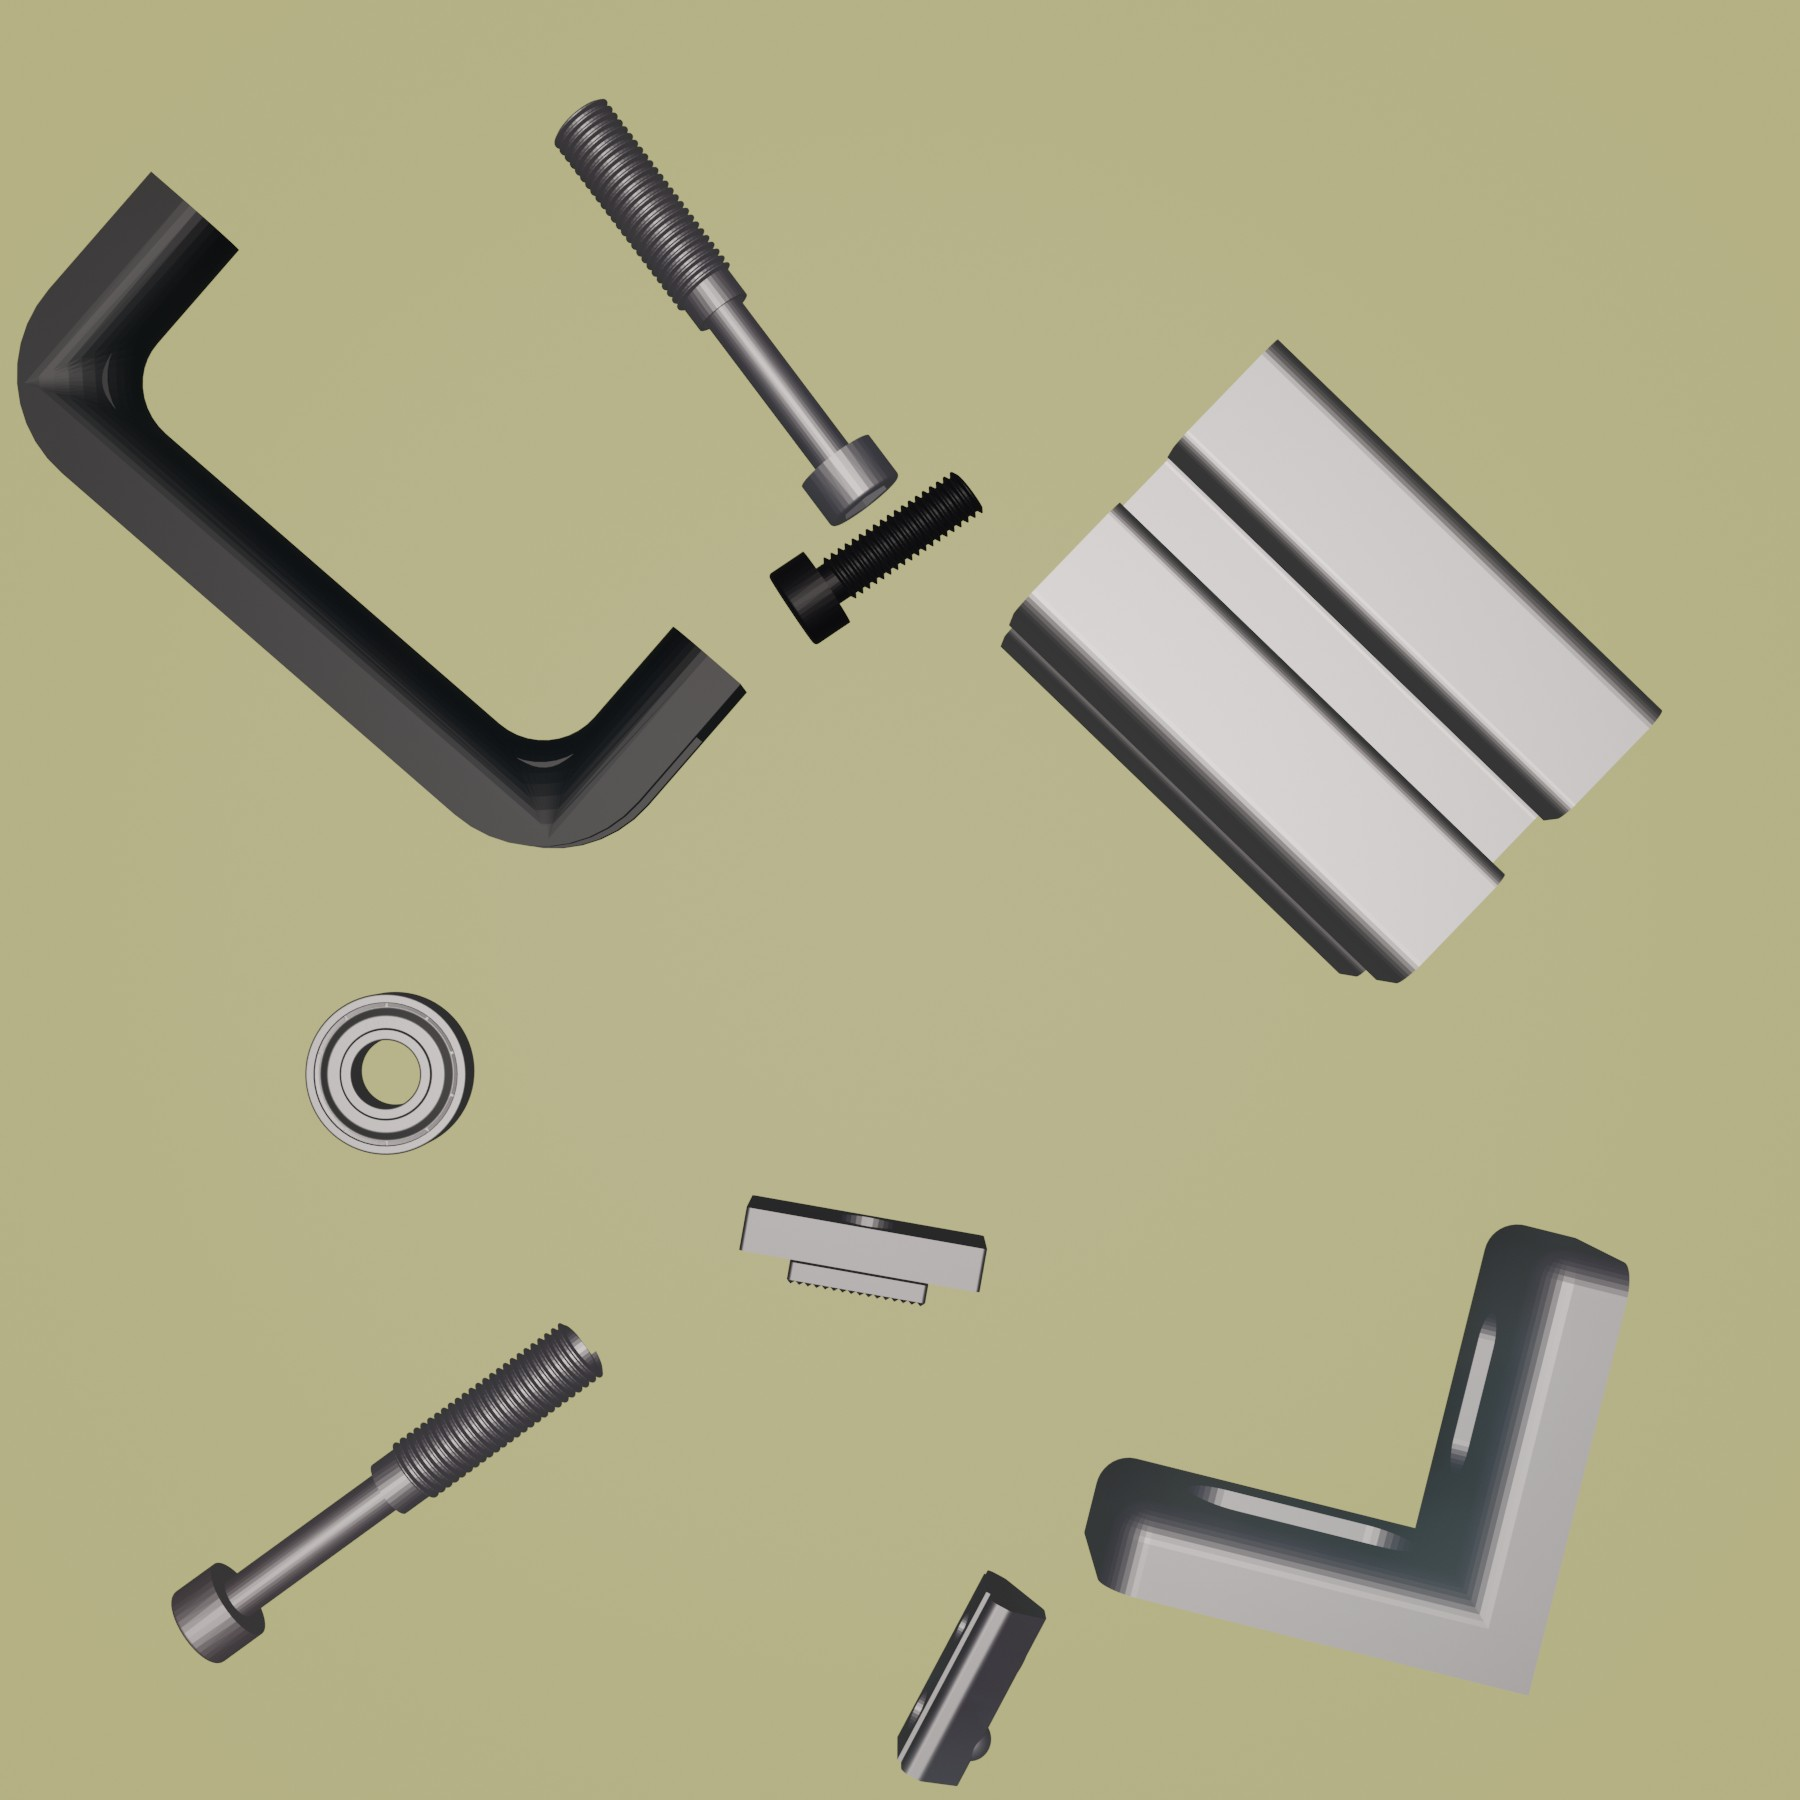Aluminium Extension: (997, 336, 1663, 986)
Ball Bearing: (302, 991, 476, 1159)
Multiwinkel: (1081, 1221, 1632, 1699)
Pull Handle: (13, 170, 748, 849)
Shoulder Socket Head Cap Screw: (551, 96, 902, 527), (166, 1322, 602, 1665)
Socket Head Cap Screw: (766, 470, 987, 646)
T Nut Square: (734, 1192, 989, 1310)
T Spring Nut: (893, 1564, 1048, 1788)
